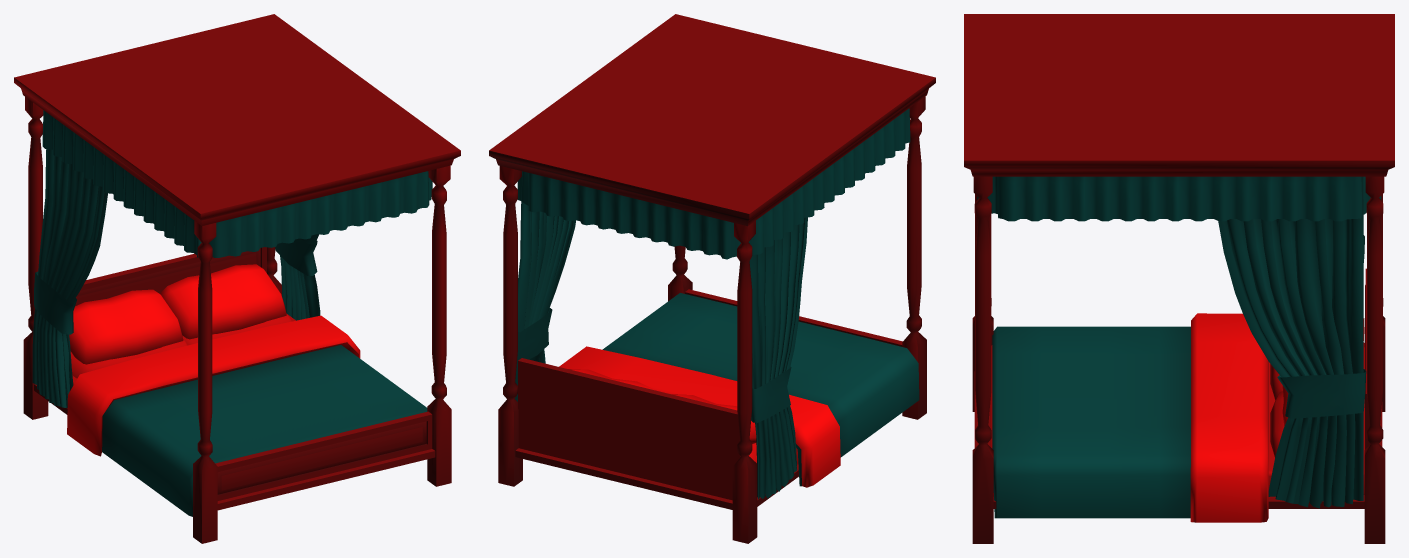
File: OrnateBed.glb
3 views of the same model, side by side, from view 1: azimuth 30°, elevation 25°; view 2: azimuth 150°, elevation 25°; view 3: azimuth 270°, elevation 25° (orthographic). The views are drawn at different scales.
Parts seen in each view (by area): view 1: OrnateBed; view 2: OrnateBed; view 3: OrnateBed.
Part boxes in pixels (bbox=[...]): OrnateBed: bbox=[14, 14, 460, 543]; OrnateBed: bbox=[489, 14, 935, 543]; OrnateBed: bbox=[964, 14, 1394, 543].
Bounding box in the file's own units: 11.26 × 13.46 × 13.62.
